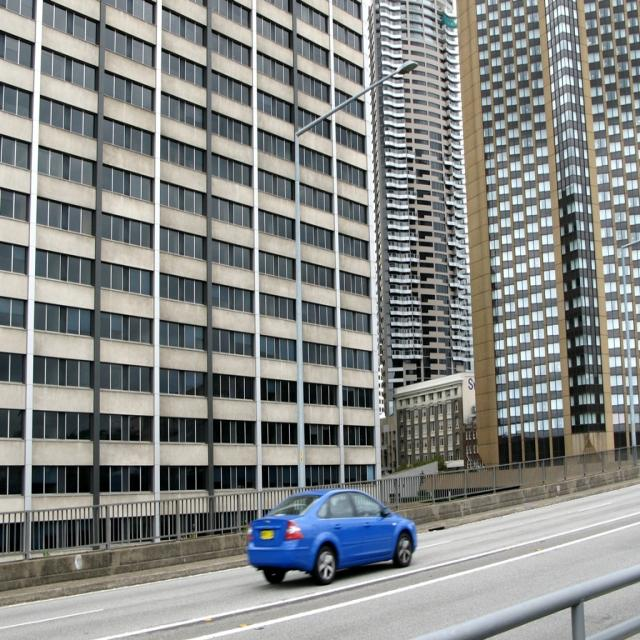car: (244, 487, 417, 585)
